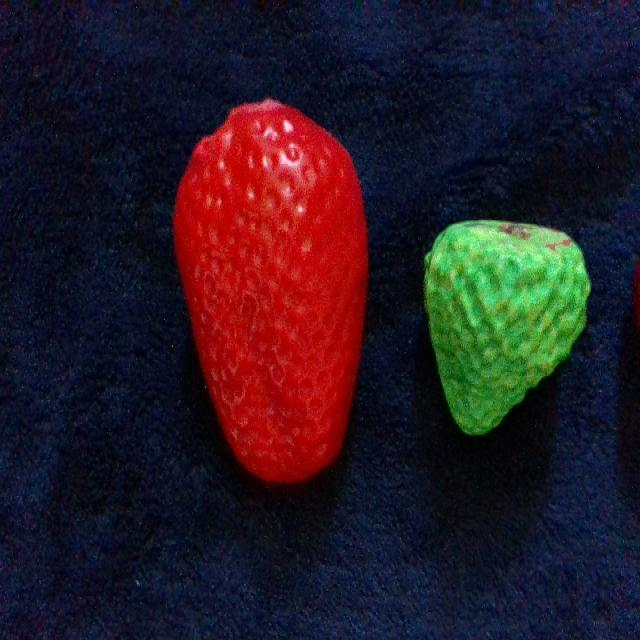grande_roja: (175, 100, 367, 481)
verde: (425, 220, 588, 433)
